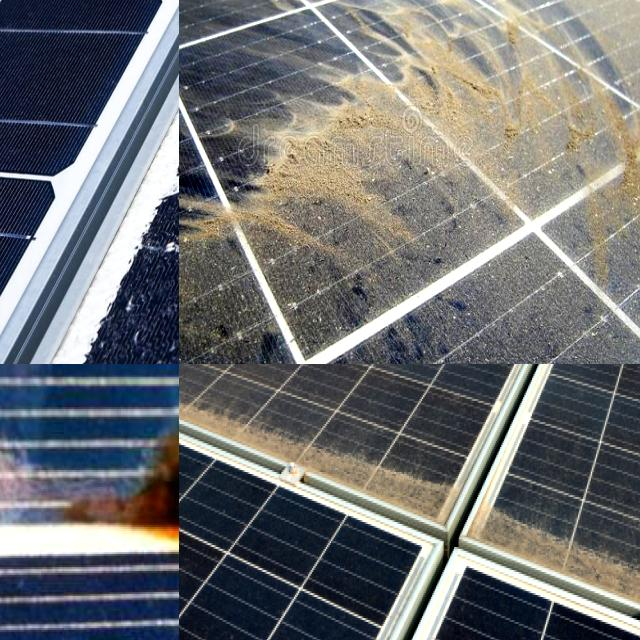dust: (251, 80, 405, 256), (488, 474, 640, 640), (179, 91, 257, 364), (315, 0, 550, 79), (238, 269, 427, 364), (554, 67, 640, 267), (275, 440, 482, 523), (418, 8, 540, 130), (437, 277, 563, 364), (395, 364, 576, 424), (179, 0, 296, 89), (200, 364, 385, 413), (179, 381, 291, 454), (563, 0, 640, 86)
shadow: (48, 364, 179, 640)
